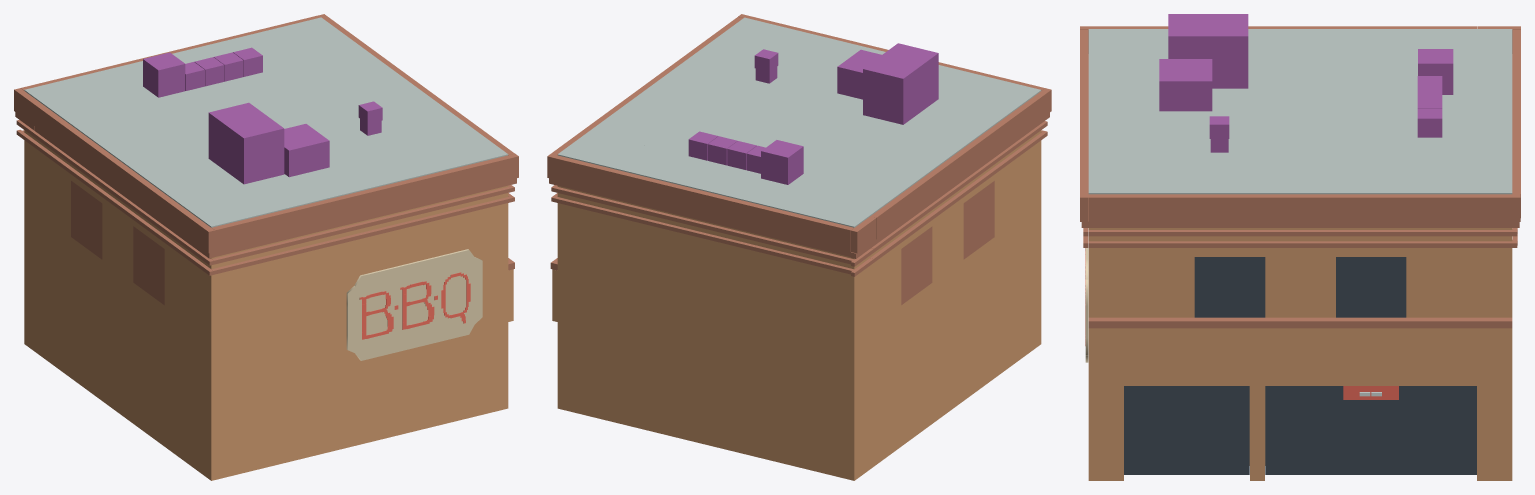
File: building5_final.fbx
3 renders of one model, left to right at view 1: azimuth 30°, elevation 25°; view 2: azimuth 150°, elevation 25°; view 3: azimuth 270°, elevation 25°, orthographic. The views are drawn at different scales.
Visible parts, largest first — view 1: pCube10997, pCube10518, pCube10582, pCube10495, pCube10565, pCube10591, pCube9936, pCube10075, pCube9550, pCube10814, pCube10972, pCube10750 (+72 smaller); view 2: pCube10997, pCube10707, pCube10578, pCube10539, pCube10498, pCube9939, pCube9546, pCube10072, pCube10642, pCube9695, pCube10531, pCube10335 (+71 smaller); view 3: pCube9441, pCube10518, pCube10707, pCube10814, pCube10638, pCube10997, pCube10643, pCube10634, pCube10635, pCube10642, pCube10675, pCube10482 (+50 smaller).
Part boxes in pixels (x1,y1,x2,y2): pCube10997: (208,102,284,184); pCube10518: (423,130,518,197); pCube10582: (207,184,295,250); pCube10495: (369,144,457,210); pCube10565: (315,158,403,224); pCube10591: (261,171,349,237); pCube9936: (180,345,238,424); pCube10075: (180,289,238,367); pCube9550: (180,402,238,480); pCube10814: (454,239,514,309); pCube10972: (346,265,401,335); pCube10750: (400,252,461,322); pCube10997: (863,43,938,124); pCube10707: (547,131,642,197); pCube10578: (769,184,857,250); pCube10539: (661,158,749,224); pCube10498: (608,145,695,210); pCube9939: (827,345,885,424); pCube9546: (827,402,885,480); pCube10072: (827,289,885,367); pCube10642: (550,239,611,308); pCube9695: (552,292,611,364); pCube10531: (715,171,804,237); pCube10335: (825,237,889,311); pCube9441: (1159,411,1249,474); pCube10518: (1080,163,1159,227); pCube10707: (1441,163,1520,227); pCube10814: (1085,259,1159,353); pCube10638: (1300,286,1371,353); pCube10997: (1168,14,1248,88); pCube10643: (1371,286,1441,353); pCube10634: (1159,286,1229,353); pCube10635: (1230,286,1300,353); pCube10642: (1441,289,1512,353); pCube10675: (1300,163,1371,227); pCube10482: (1371,163,1441,227).
Size of the model in its own units: 22.63 by 20.94 by 24.58.
